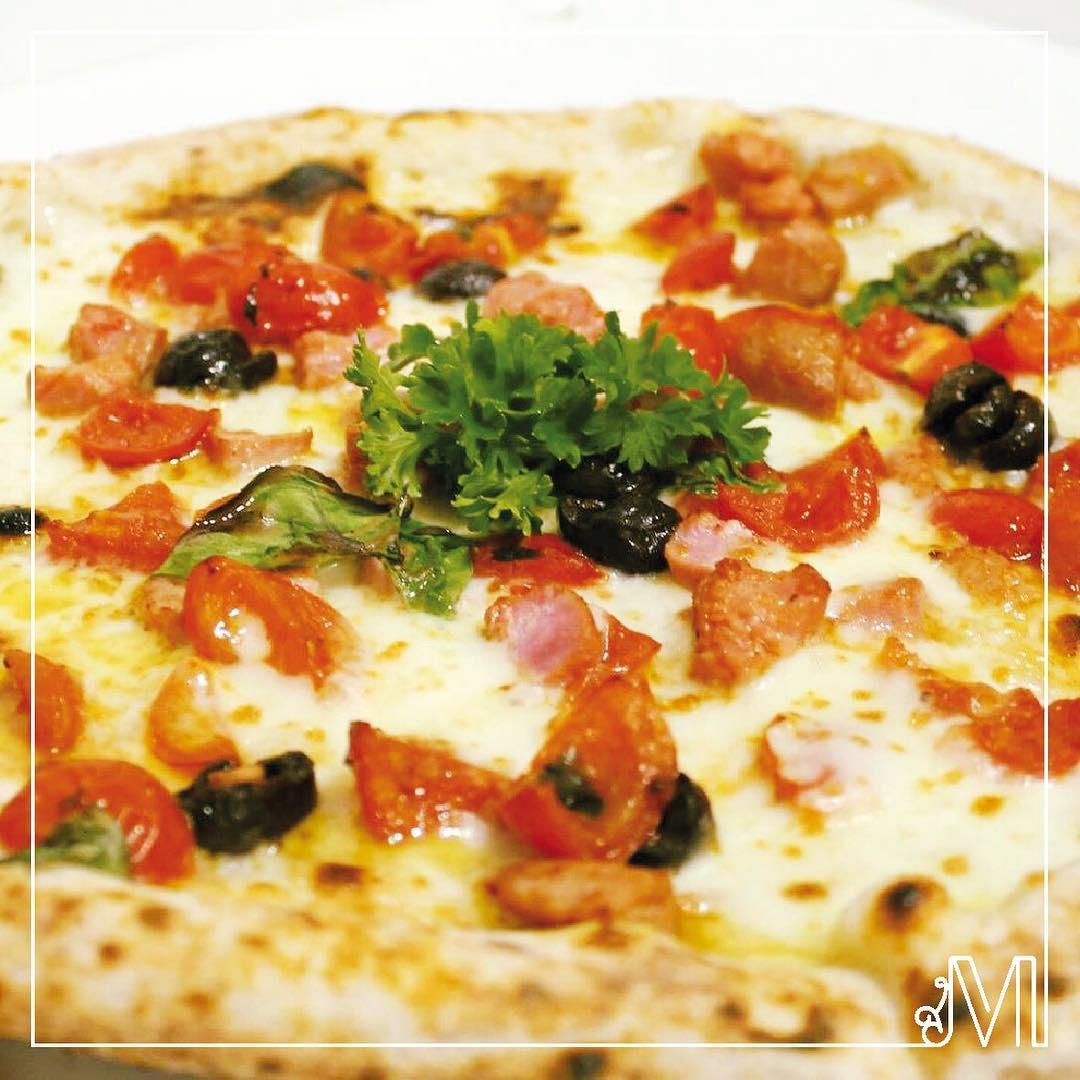Basil: (351, 313, 745, 524), (205, 469, 461, 598), (848, 232, 1030, 308)
Cheese: (709, 677, 925, 940), (353, 619, 500, 718)
Chicken: (685, 539, 834, 692), (721, 301, 858, 405), (31, 301, 164, 405), (485, 585, 594, 672), (289, 325, 418, 384), (809, 149, 920, 216), (735, 231, 844, 297), (483, 263, 601, 321), (699, 121, 806, 184), (733, 181, 806, 220)
Olives: (558, 463, 675, 575), (195, 758, 325, 847), (918, 380, 1052, 448), (160, 335, 272, 387), (261, 159, 364, 205), (417, 263, 509, 297), (0, 503, 42, 538)
Pizza: (0, 98, 1080, 1080)
Tomatoes: (503, 633, 677, 855), (0, 757, 193, 887), (117, 235, 382, 323), (927, 448, 1080, 597), (348, 725, 502, 853), (192, 560, 357, 673), (713, 437, 880, 532), (860, 308, 1080, 380), (325, 188, 538, 260), (943, 677, 1080, 783), (43, 480, 175, 562), (645, 183, 733, 283), (142, 673, 235, 758), (77, 405, 222, 455), (0, 652, 77, 745), (645, 307, 720, 382)
